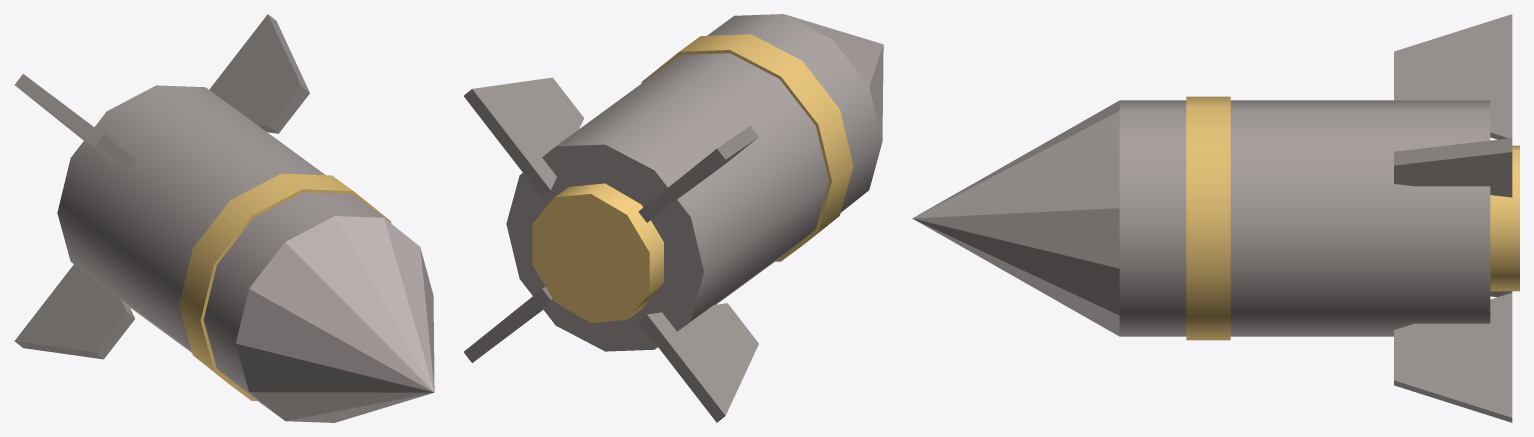
The model's file is shot_shell.glb.
The picture shows the model from 3 angles, left to right: view 1: azimuth 30°, elevation 25°; view 2: azimuth 150°, elevation 25°; view 3: azimuth 270°, elevation 25°; orthographic projection. The views are drawn at different scales.
Visible parts, largest first — view 1: girder*1.2, girder*1.5, glow*0.8, girder.002, girder, girder.001; view 2: girder*1.2, glow*0.9, glow*0.8, girder.002, girder, girder*1.5, girder.001, girder.003; view 3: girder*1.2, girder*1.5, glow*0.8, girder.003, girder.001, girder, glow*0.9.
Boxes of the visible parts, box(x1,y1,x2,y2) form: girder*1.2: box(57, 85, 383, 418); girder*1.5: box(235, 216, 434, 422); glow*0.8: box(179, 173, 391, 400); girder.002: box(14, 264, 134, 359); girder: box(209, 14, 309, 133); girder.001: box(14, 74, 134, 170); girder*1.2: box(506, 14, 882, 351); glow*0.9: box(532, 183, 663, 323); glow*0.8: box(641, 34, 853, 261); girder.002: box(638, 303, 758, 422); girder: box(463, 77, 583, 196); girder*1.5: box(784, 14, 883, 140); girder.001: box(638, 126, 758, 222); girder.003: box(463, 286, 552, 362); girder*1.2: box(1119, 100, 1490, 336); girder*1.5: box(912, 100, 1119, 336); glow*0.8: box(1186, 96, 1230, 340); girder.003: box(1394, 293, 1512, 422); girder.001: box(1394, 14, 1512, 139); girder: box(1394, 138, 1512, 197); glow*0.9: box(1490, 145, 1519, 291).
Size of the model in its own units: 0.4243 by 0.4243 by 0.82.
